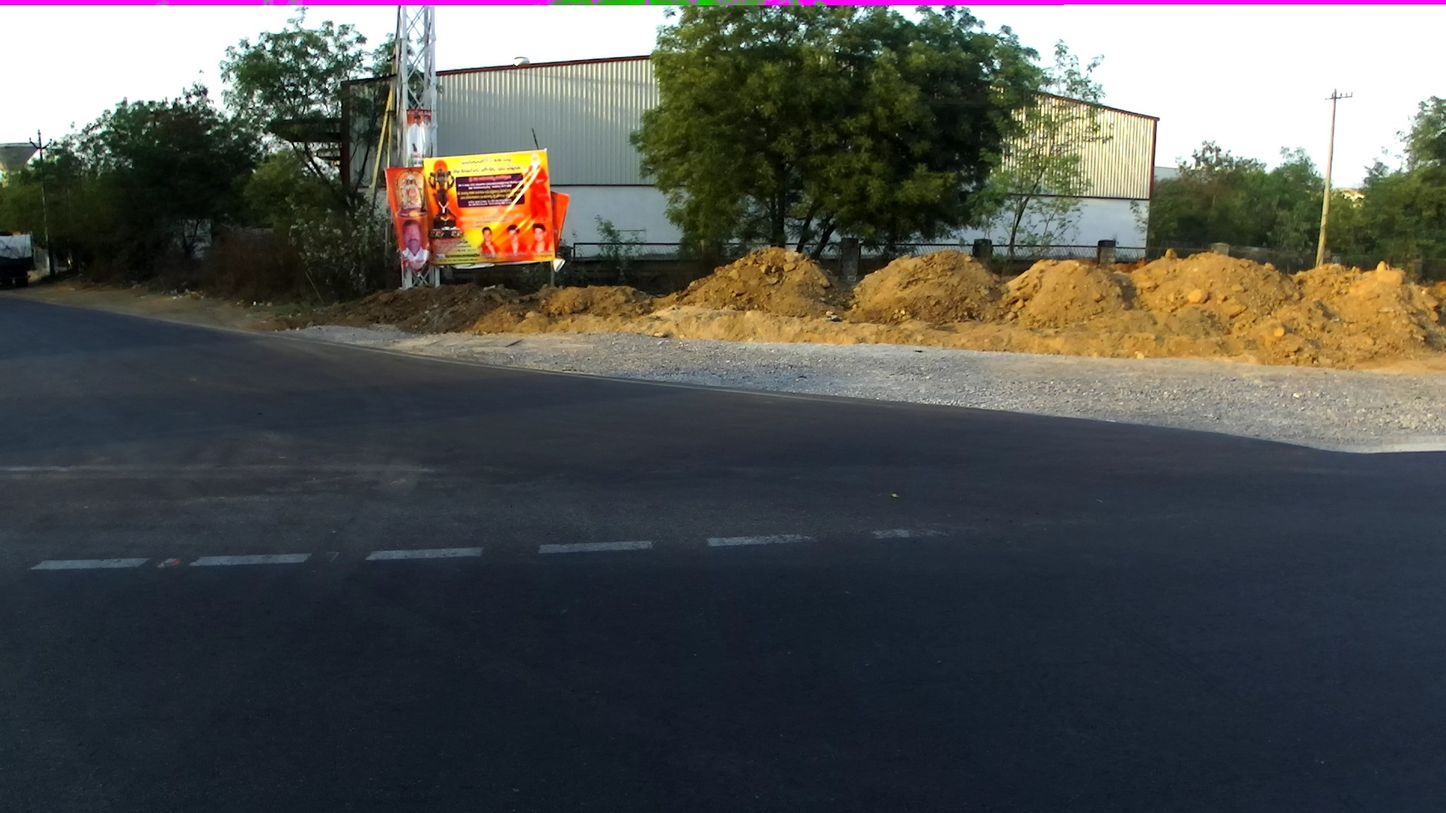truck: (0, 233, 36, 289)
